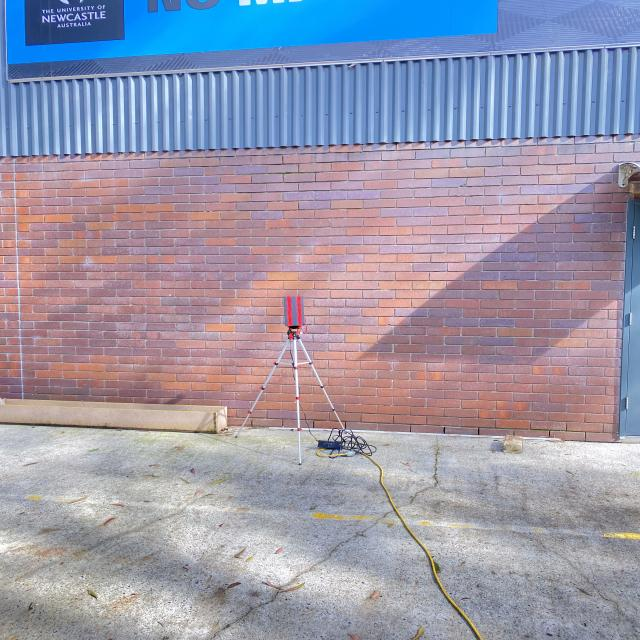matrix: (281, 296, 308, 327)
